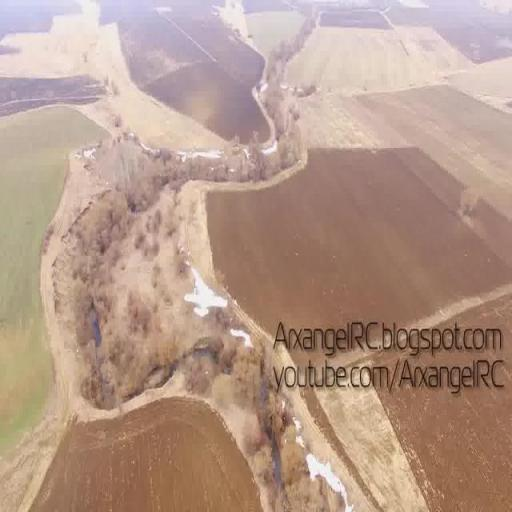uav: (181, 256, 238, 342)
